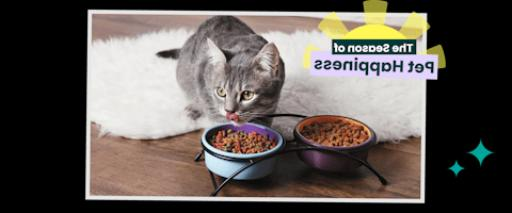cat_eating: (159, 16, 305, 193)
